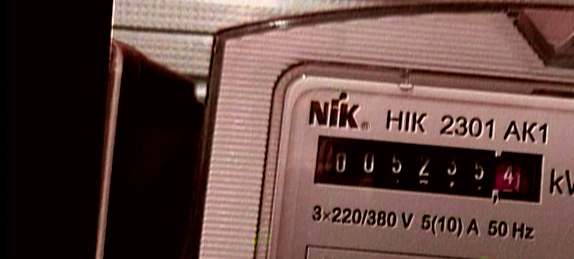0: (333, 149, 351, 176), (363, 149, 378, 175)
2: (417, 152, 433, 178)
3: (446, 152, 461, 178)
4: (502, 160, 519, 187)
5: (472, 155, 489, 183), (389, 150, 406, 177)
screen: (305, 126, 557, 213)
